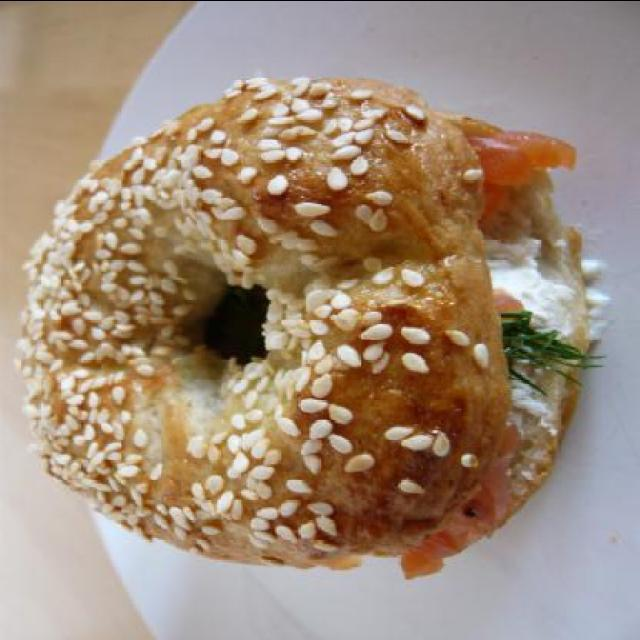Bagel: (11, 74, 608, 574)
